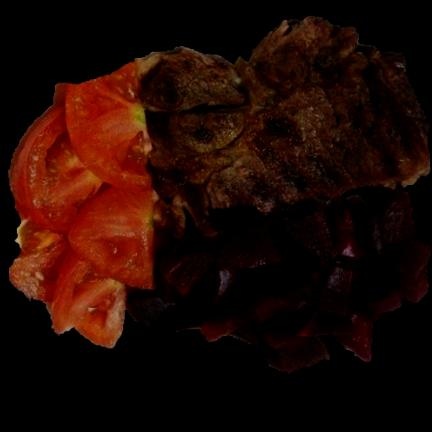beet: (120, 189, 428, 375)
meat: (142, 19, 430, 238)
tomato: (6, 63, 154, 348)
